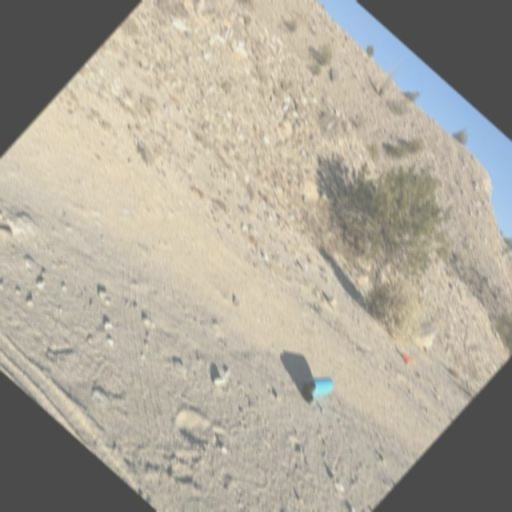bottle: (288, 358, 344, 416)
mallet: (394, 344, 426, 374)
